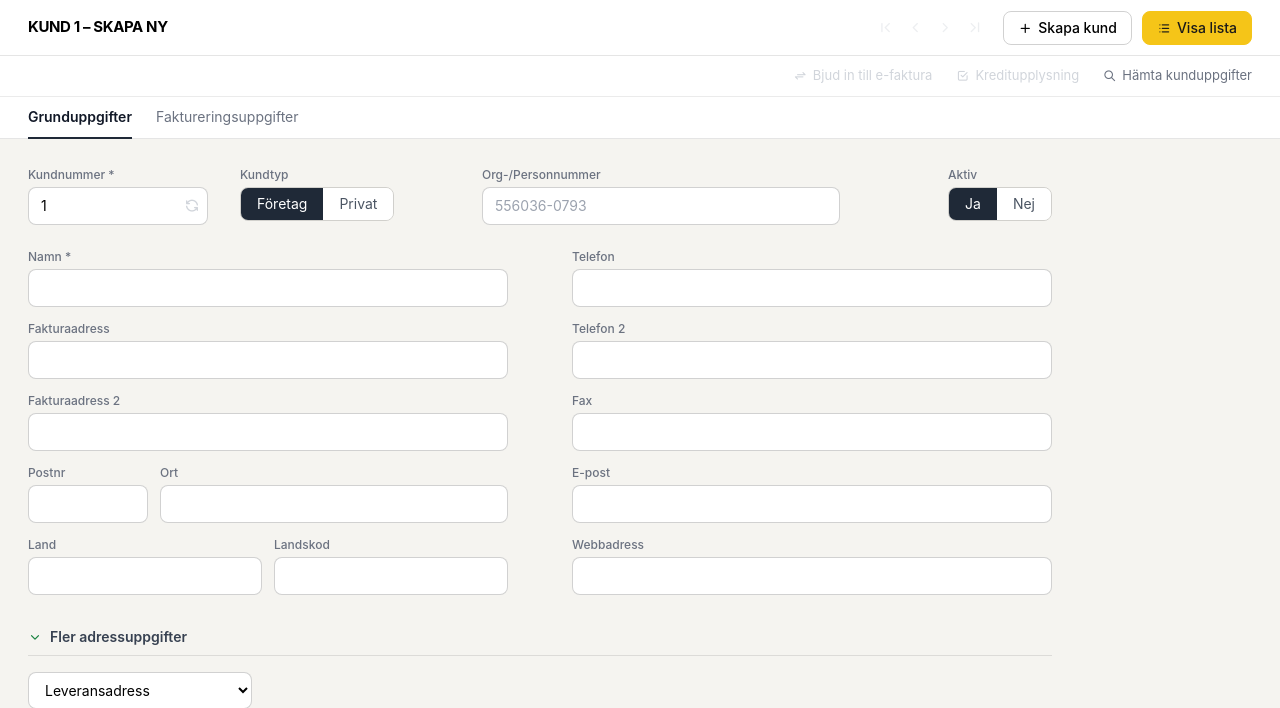
Scenario: KundEditor – automatisk hämtning från Allabolag › ej konfigurerat API: degraderar tyst (lugn inline-text, döljer Uppdatera-knappen)
This screenshot has width=1280, height=708.
Type "5560360793" into the field with placeholder "556036-0793".
click(661, 206); type("5560360793")  # box [482,186,840,224]
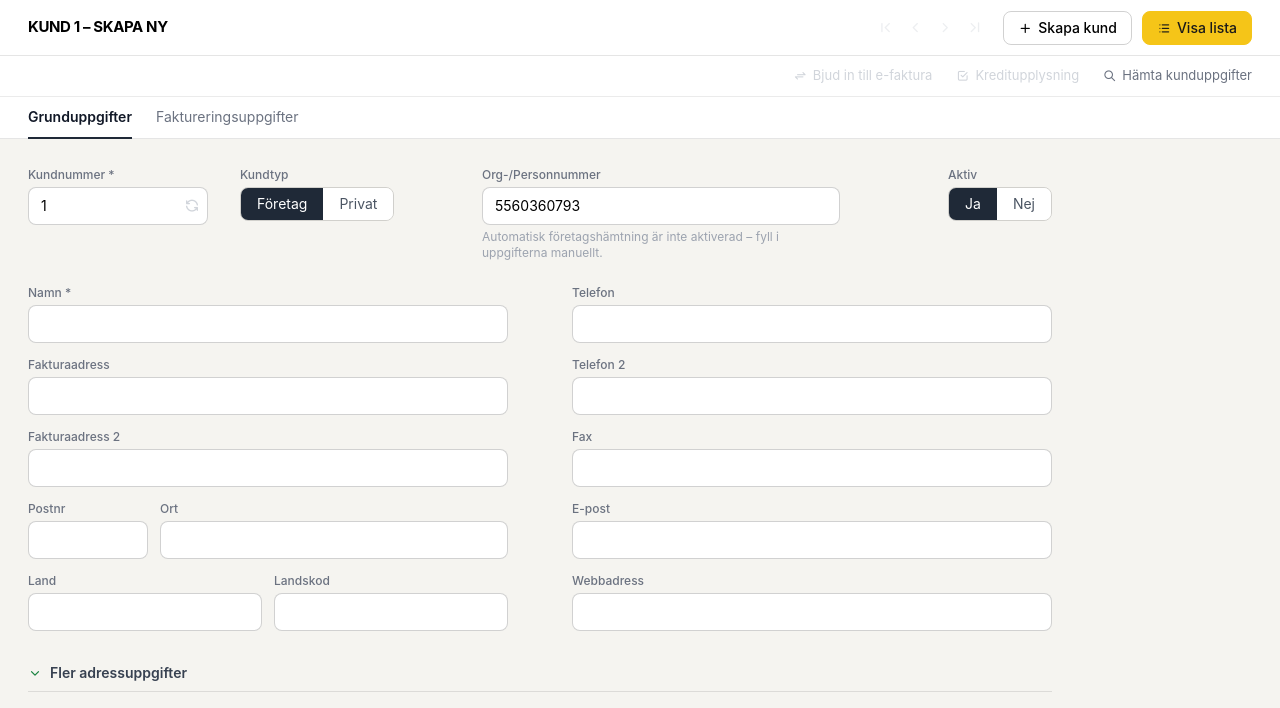
Expected: the text "Automatisk företagshämtning är inte aktiverad – fyll i uppgifterna manuellt." is shown, [482,228,779,260]
